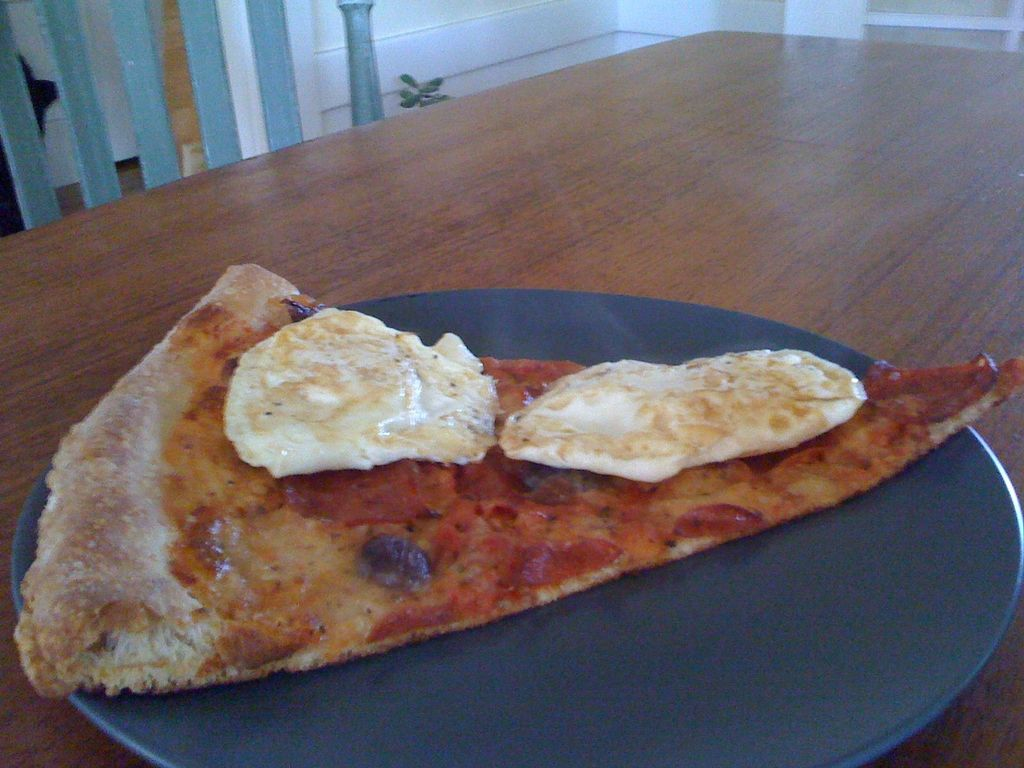Pizza: (0, 334, 947, 709)
